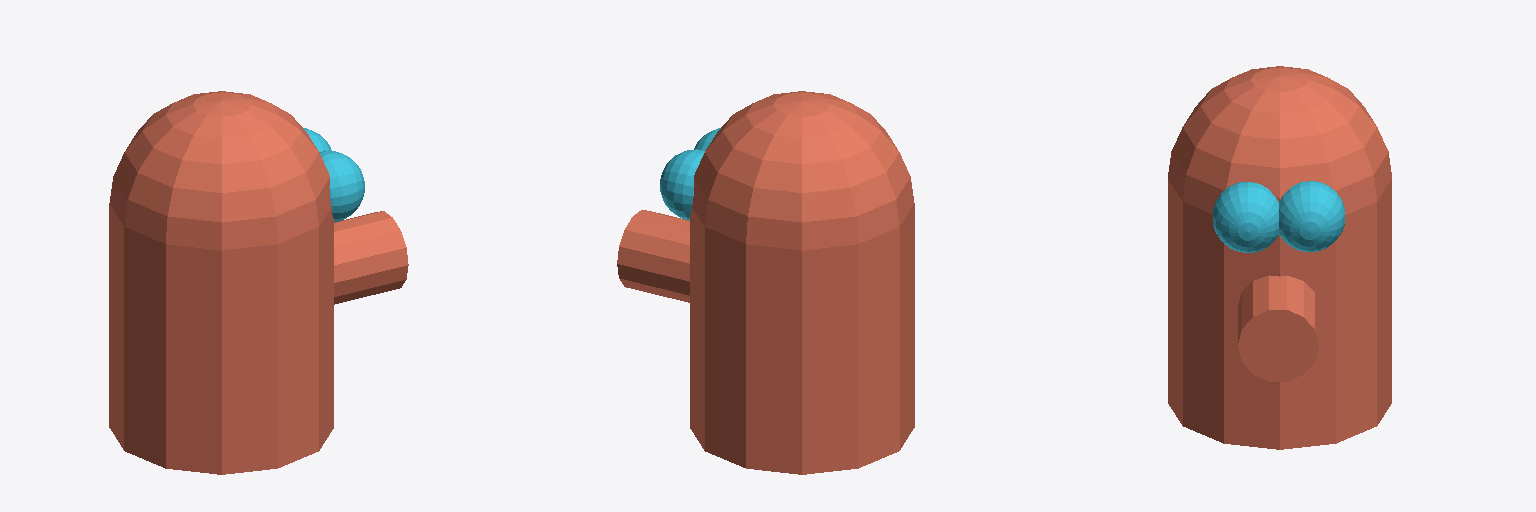
The model's file is robotred.obj.
The picture shows the model from 3 angles: view 1: azimuth 30°, elevation 25°; view 2: azimuth 150°, elevation 25°; view 3: azimuth 270°, elevation 25°; orthographic projection.
Parts seen in each view (by area): view 1: objCapsule01, objCylinder01, objSphere02; view 2: objCapsule01, objCylinder01, objSphere01; view 3: objCapsule01, objCylinder01, objSphere02, objSphere01.
Part boxes in pixels (x1,y1,x2,y2): objCapsule01: (109, 91, 333, 474); objCylinder01: (334, 211, 408, 304); objSphere02: (319, 151, 364, 221); objCapsule01: (690, 91, 914, 474); objCylinder01: (617, 210, 689, 302); objSphere01: (660, 149, 704, 220); objCapsule01: (1168, 66, 1391, 449); objCylinder01: (1238, 275, 1318, 381); objSphere02: (1213, 182, 1278, 252); objSphere01: (1279, 181, 1344, 251).
Size of the model in its own units: 70.65 by 83.75 by 52.31.